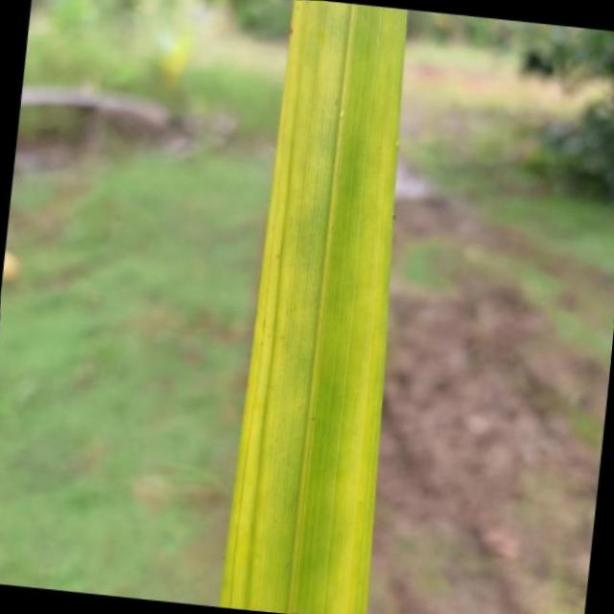nitrogen: (218, 0, 404, 614)
